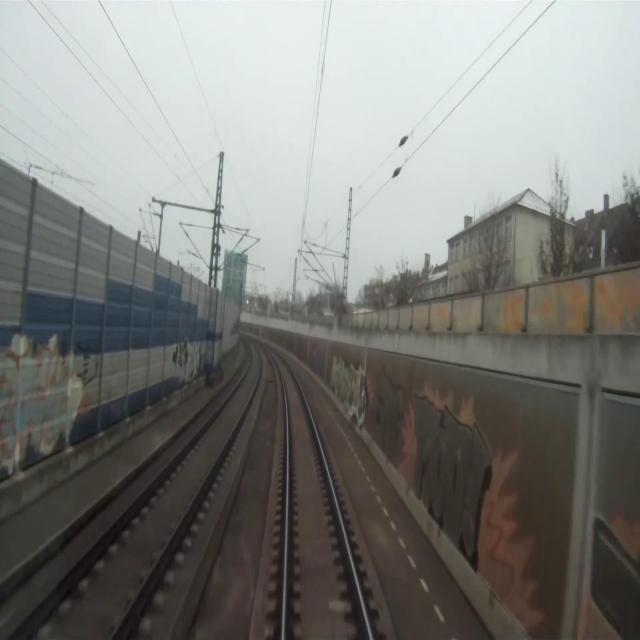rail-track: (11, 346, 259, 639), (276, 356, 368, 639)
